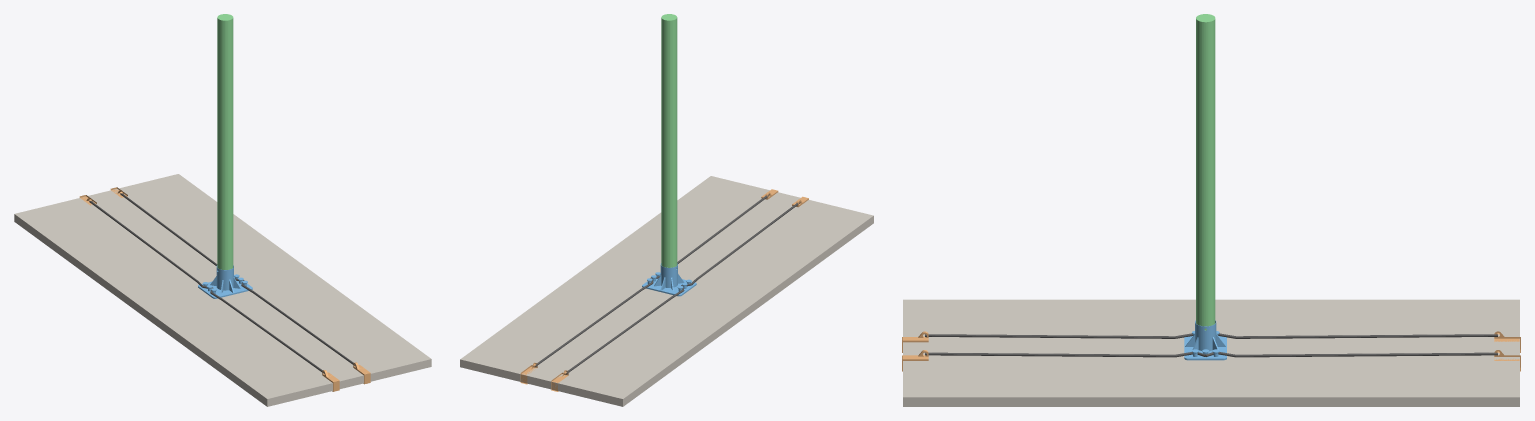
File: assembly.glb
The picture shows the model from 3 angles, left to right: view 1: azimuth 30°, elevation 25°; view 2: azimuth 150°, elevation 25°; view 3: azimuth 270°, elevation 25°; orthographic projection. The views are drawn at different scales.
Parts seen in each view (by area): view 1: door, pool_noodle, noodle_mount; view 2: door, pool_noodle, noodle_mount; view 3: door, pool_noodle, noodle_mount, bungee_+1_5, bungee_-1_5, bungee_+1_0, bungee_-1_0.
Boxes of the visible parts, x1=… form: door: x1=14, y1=174, x2=431, y2=406; pool_noodle: x1=217, y1=14, x2=233, y2=269; noodle_mount: x1=198, y1=265, x2=252, y2=298; door: x1=460, y1=176, x2=873, y2=406; pool_noodle: x1=661, y1=14, x2=677, y2=268; noodle_mount: x1=642, y1=263, x2=696, y2=296; door: x1=903, y1=299, x2=1519, y2=406; pool_noodle: x1=1196, y1=14, x2=1215, y2=330; noodle_mount: x1=1184, y1=320, x2=1226, y2=360; bungee_+1_5: x1=1236, y1=352, x2=1497, y2=357; bungee_-1_5: x1=1236, y1=334, x2=1497, y2=338; bungee_+1_0: x1=925, y1=352, x2=1175, y2=357; bungee_-1_0: x1=925, y1=334, x2=1175, y2=338.
Bounding box in the file's own units: 762 × 1238 × 2037.
